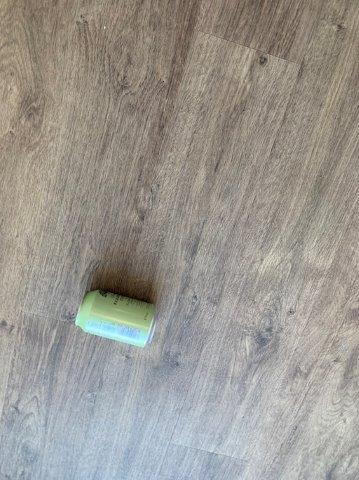kaleng: (77, 291, 157, 347)
